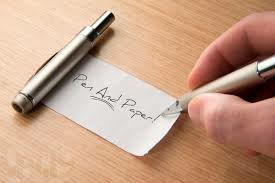pen: (10, 5, 117, 119), (154, 56, 275, 117)
